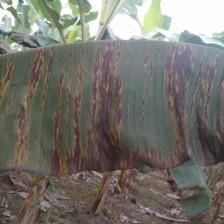sigatoka: (0, 41, 224, 176)
